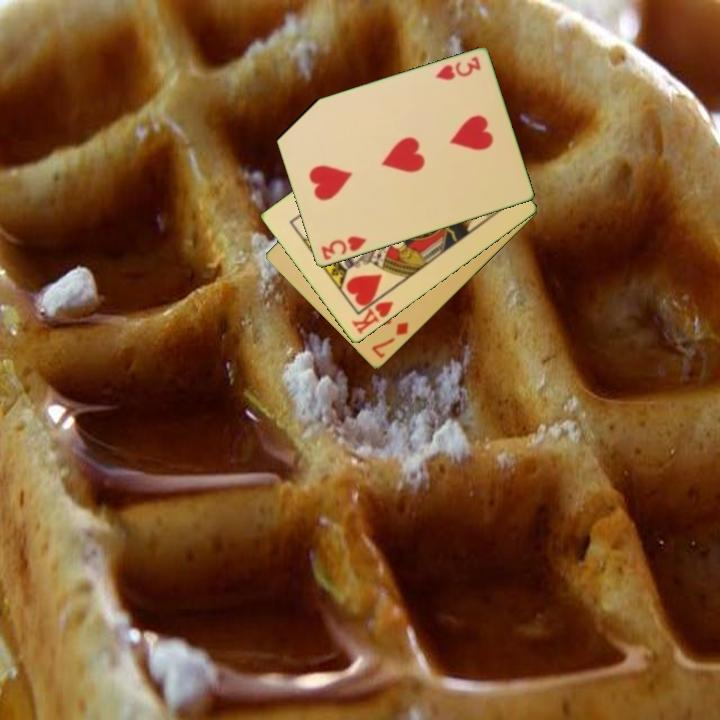3h: (431, 53, 484, 84), (317, 233, 370, 263)
7d: (368, 318, 412, 361)
Kh: (348, 289, 396, 337)
